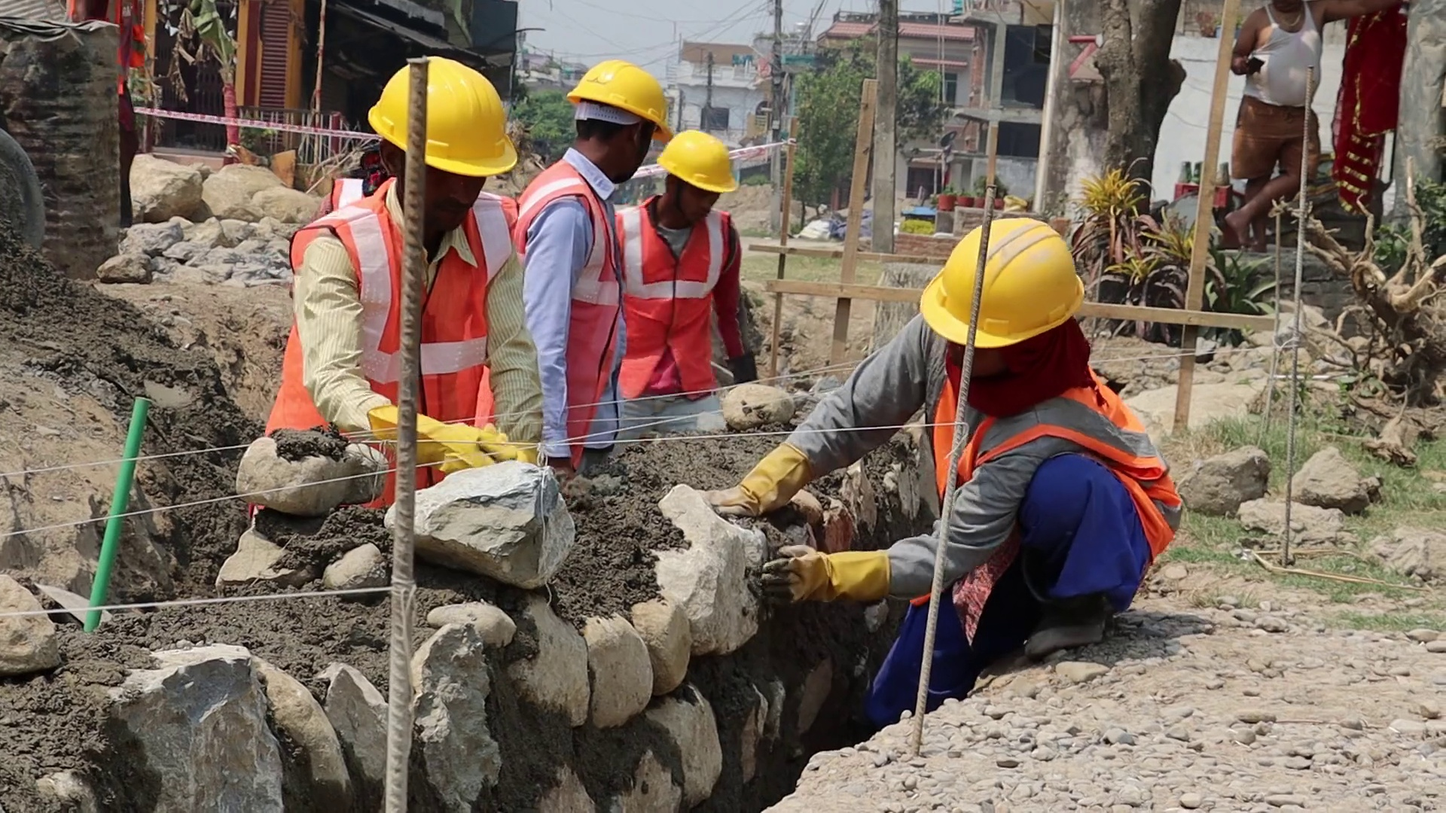helmet: (920, 218, 1084, 349), (367, 56, 517, 177), (566, 59, 674, 142), (656, 130, 738, 192)
person: (705, 210, 1185, 732), (264, 58, 548, 475), (515, 57, 674, 483), (1213, 2, 1404, 254), (609, 128, 758, 439)
